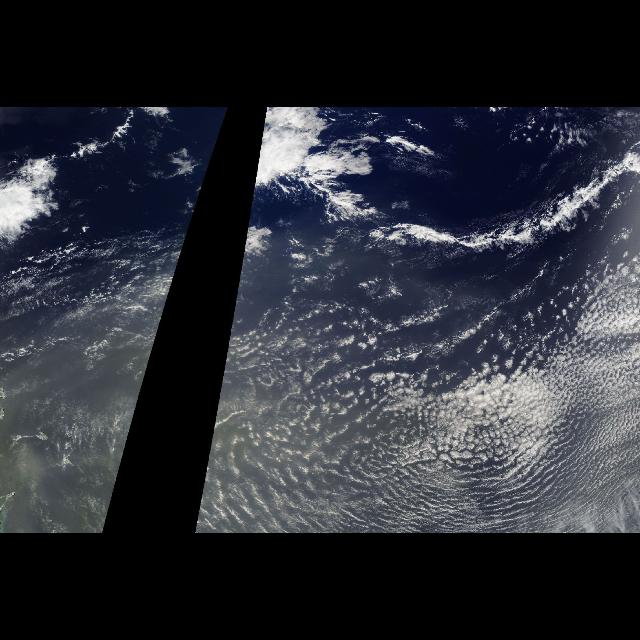Fish: (386, 167, 632, 263)
Flower: (442, 378, 554, 460)
Sugar: (194, 259, 638, 533), (10, 356, 152, 532)
